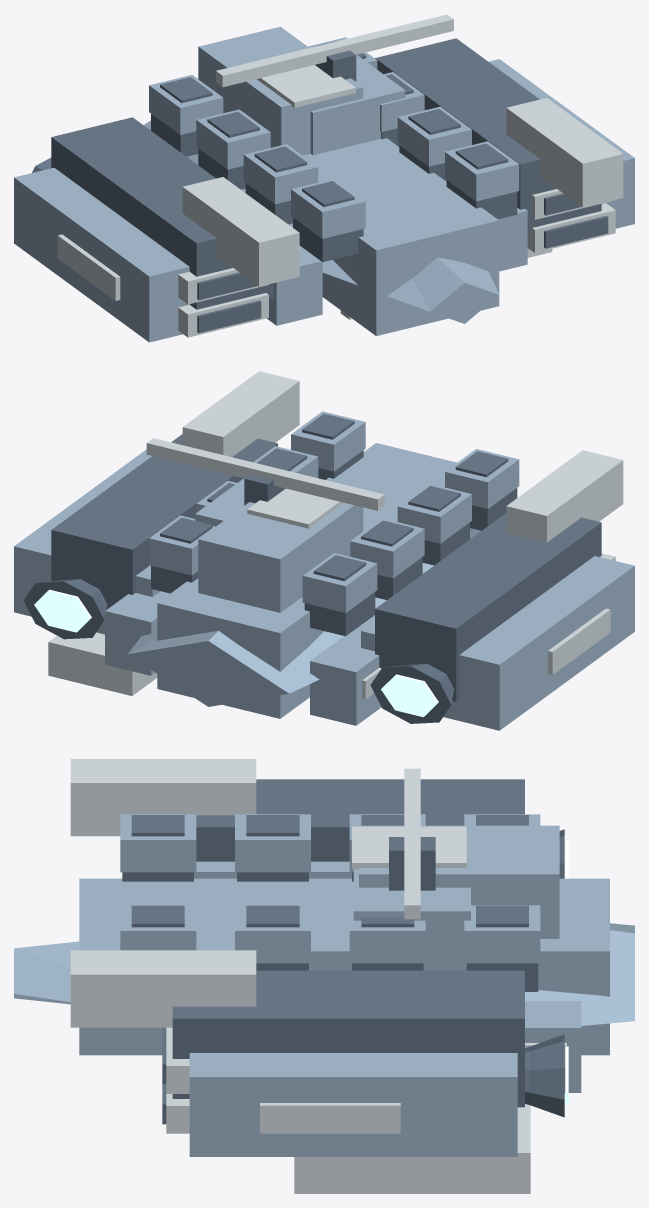
3 renders of one model, top to bottom at view 1: azimuth 30°, elevation 25°; view 2: azimuth 150°, elevation 25°; view 3: azimuth 270°, elevation 25°, orthographic. The views are drawn at different scales.
Size of the model in its own units: 19.31 by 7.92 by 17.32.
